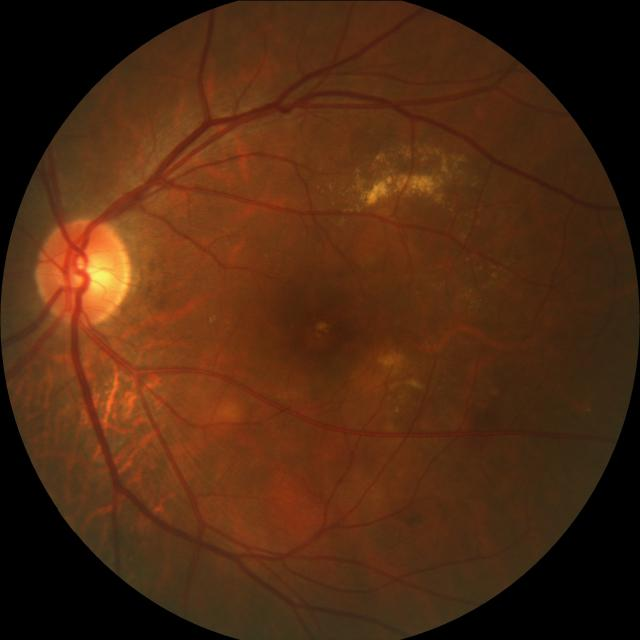OC: (68, 249, 111, 294)
OD: (36, 215, 134, 325)
